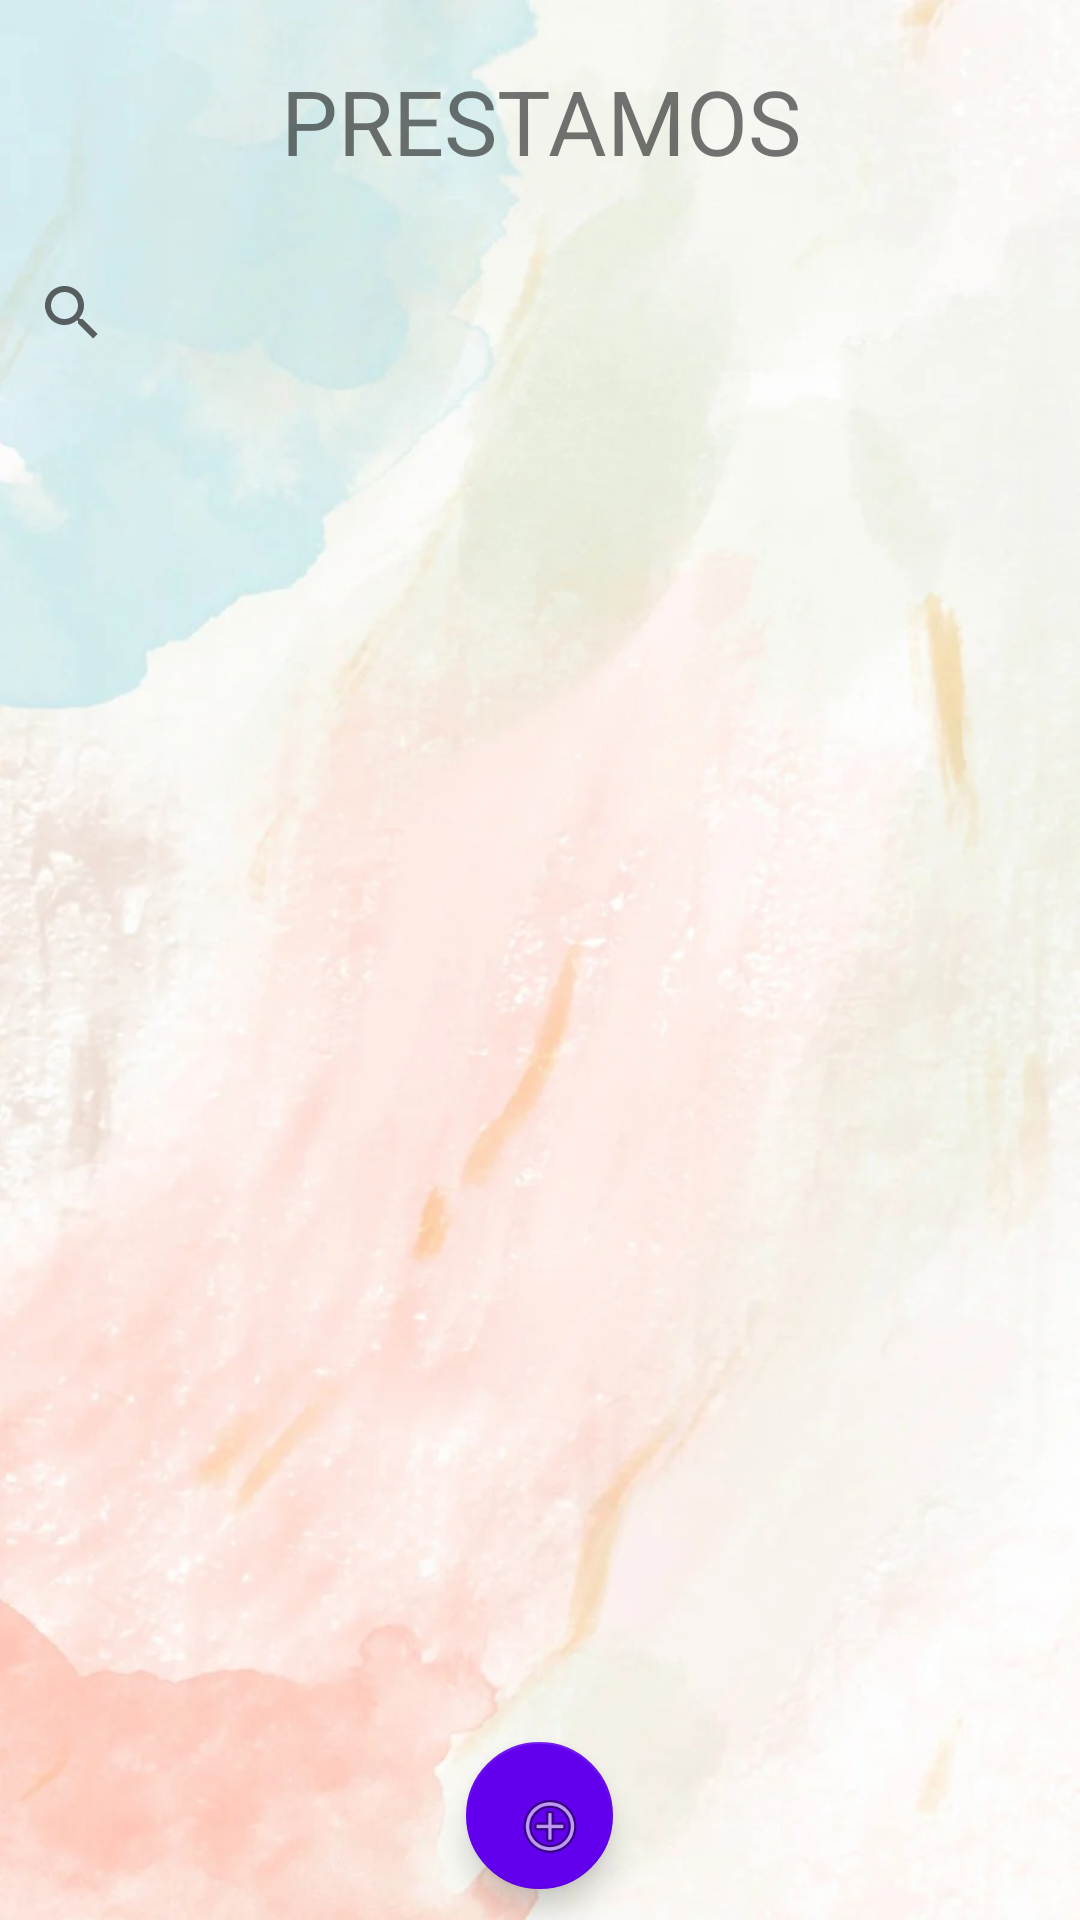

Icons on this 1080px×1920px Android screen, each with its box as box=[x1, y1, x2, y2]:
add: box=[466, 1742, 613, 1889]
